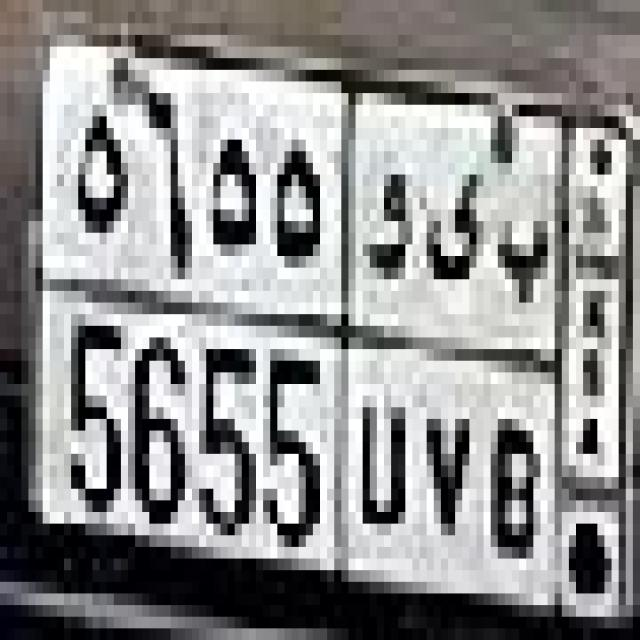license_plate: (29, 19, 640, 621), (57, 305, 544, 566)
